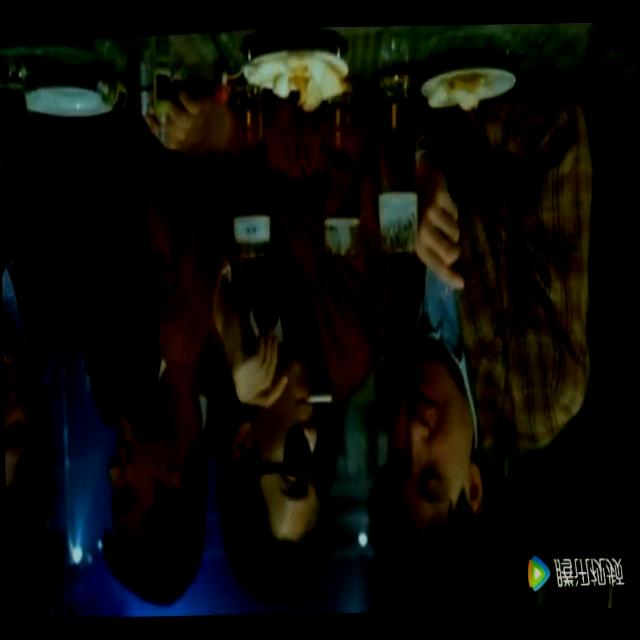smoke: (300, 391, 335, 410)
